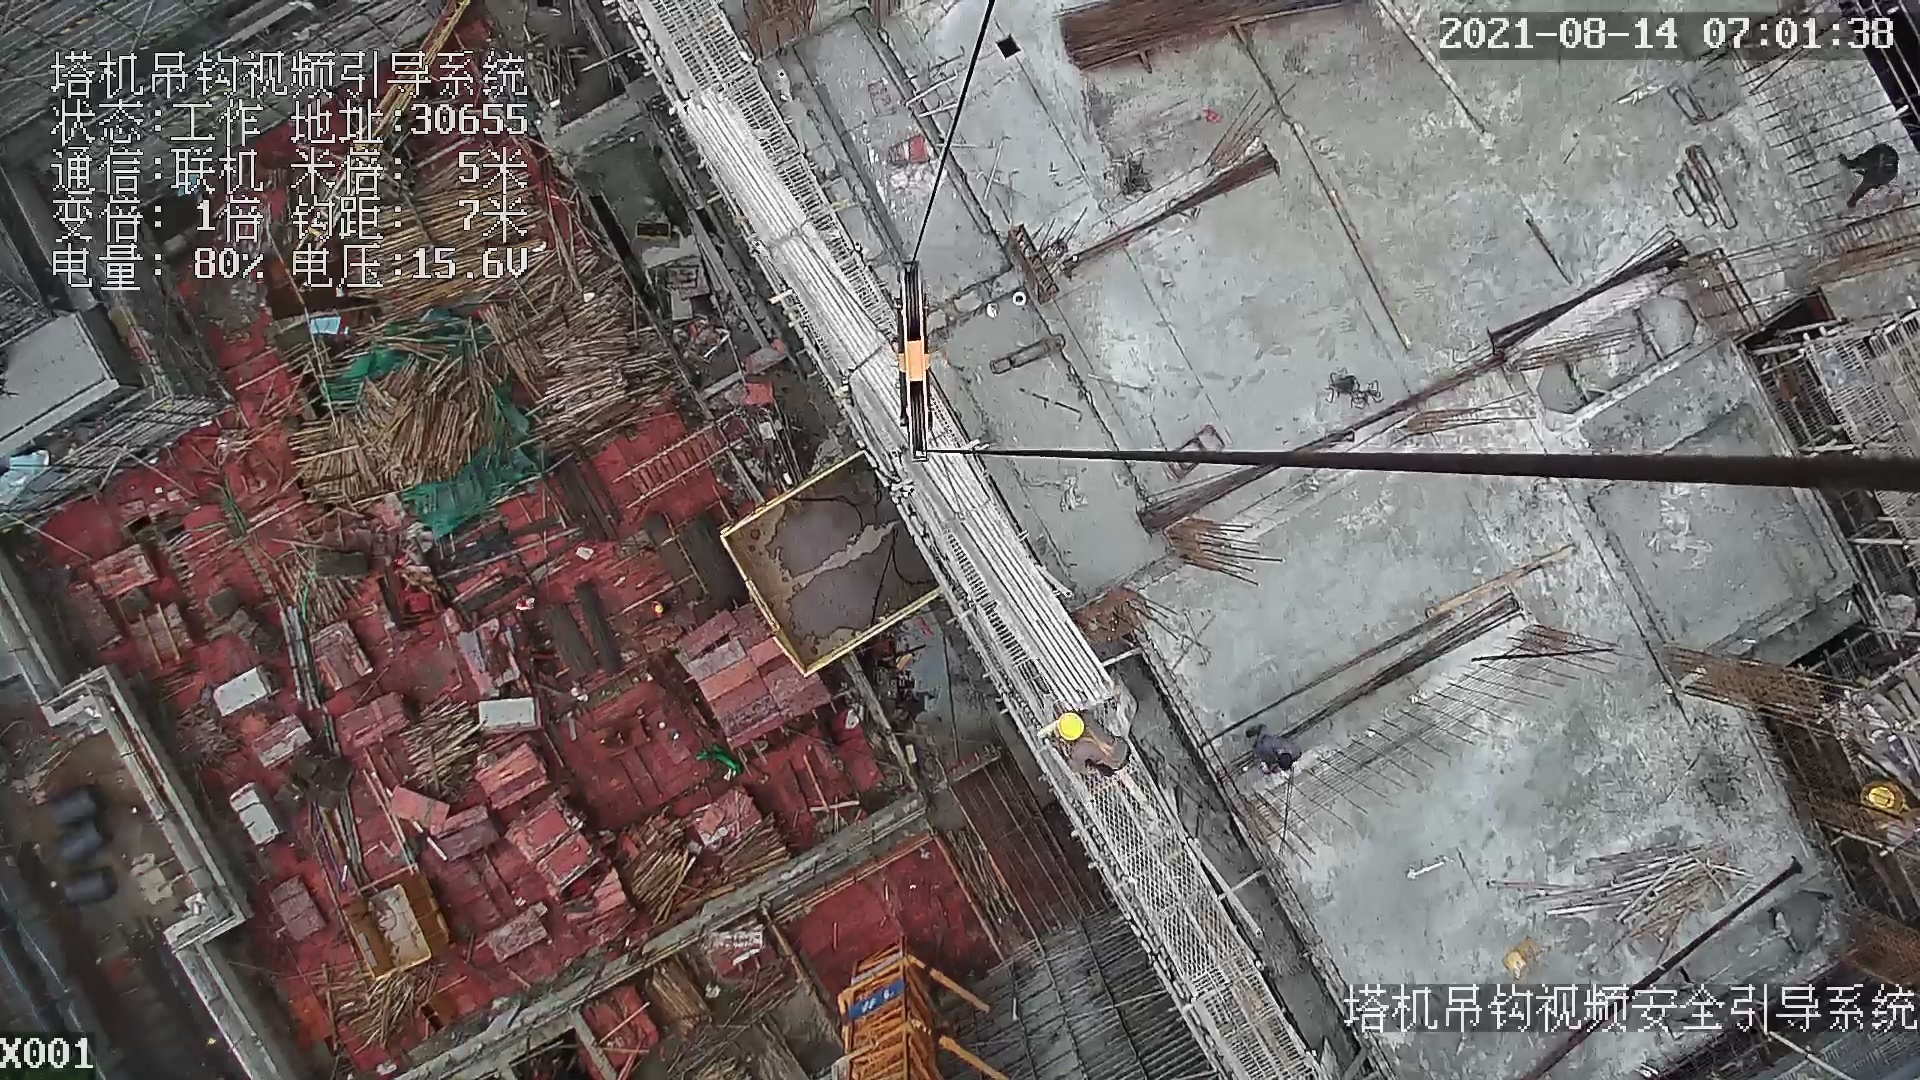helmet: (1055, 710, 1083, 741)
hook: (882, 256, 951, 467)
person: (1831, 131, 1919, 215), (1042, 714, 1137, 780), (1250, 726, 1299, 777)
